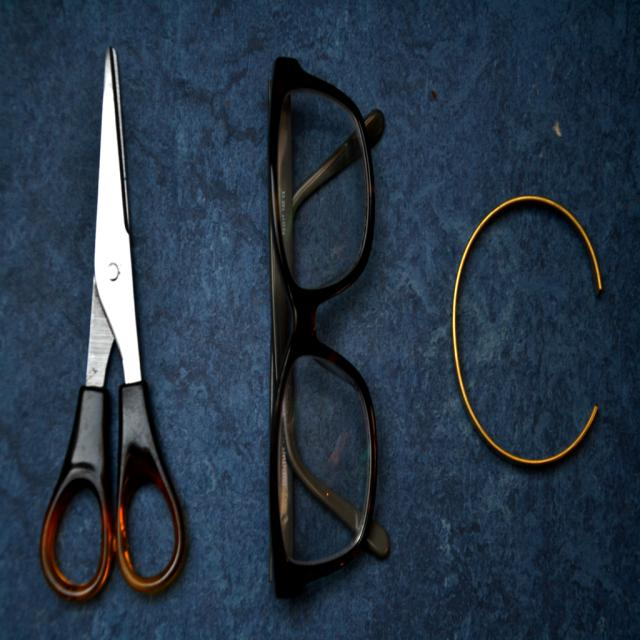scissors: (40, 45, 186, 602)
